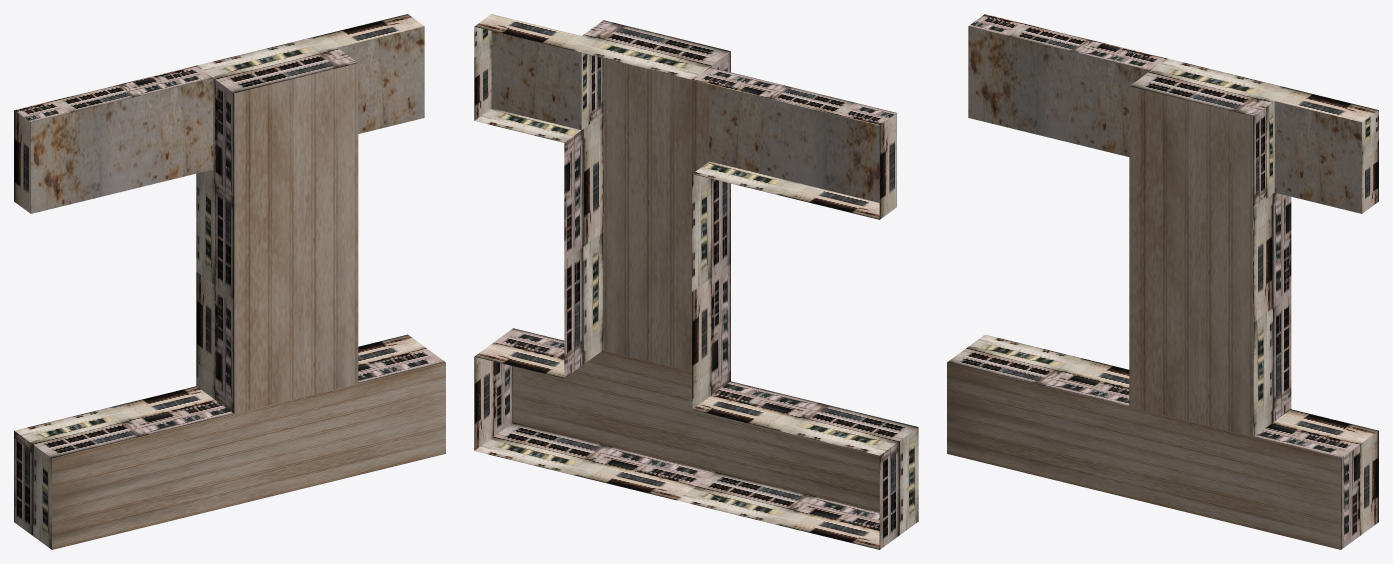
File: urbaniron01b_wtf.obj
The picture shows the model from 3 angles, left to right: view 1: azimuth 30°, elevation 25°; view 2: azimuth 150°, elevation 25°; view 3: azimuth 330°, elevation 25°; orthographic projection. The views are drawn at different scales.
Visible parts, largest first — view 1: group4, group3, group5; view 2: group3, group4, group5; view 3: group4, group3, group5.
Part boxes in pixels (x1,y1,x2,y2): group4: [52, 63, 445, 549]; group3: [14, 14, 445, 549]; group5: [31, 26, 424, 213]; group3: [474, 14, 918, 549]; group4: [513, 58, 879, 511]; group5: [491, 31, 879, 202]; group4: [947, 86, 1340, 549]; group3: [947, 14, 1378, 549]; group5: [968, 26, 1361, 213].
Size of the model in its own units: 660 by 660 by 110.
